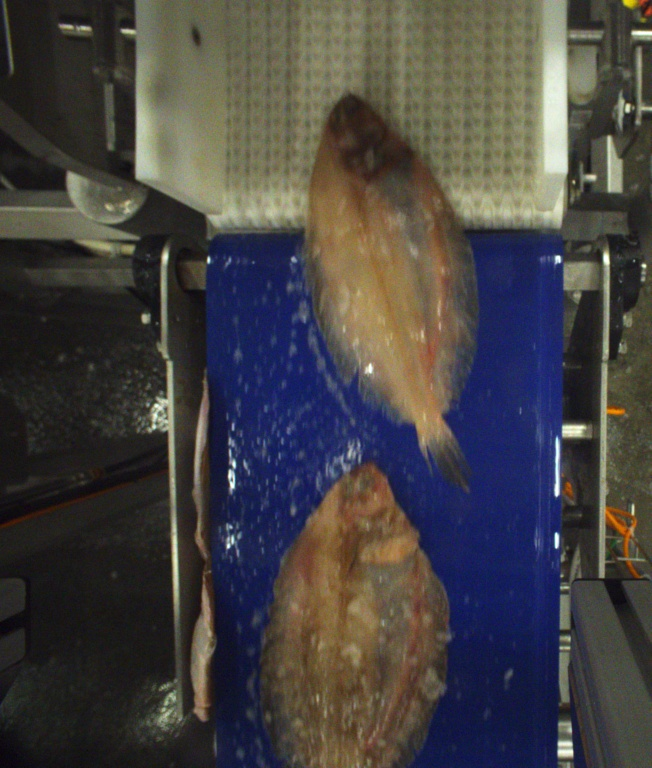WIT: (250, 465, 453, 768)
